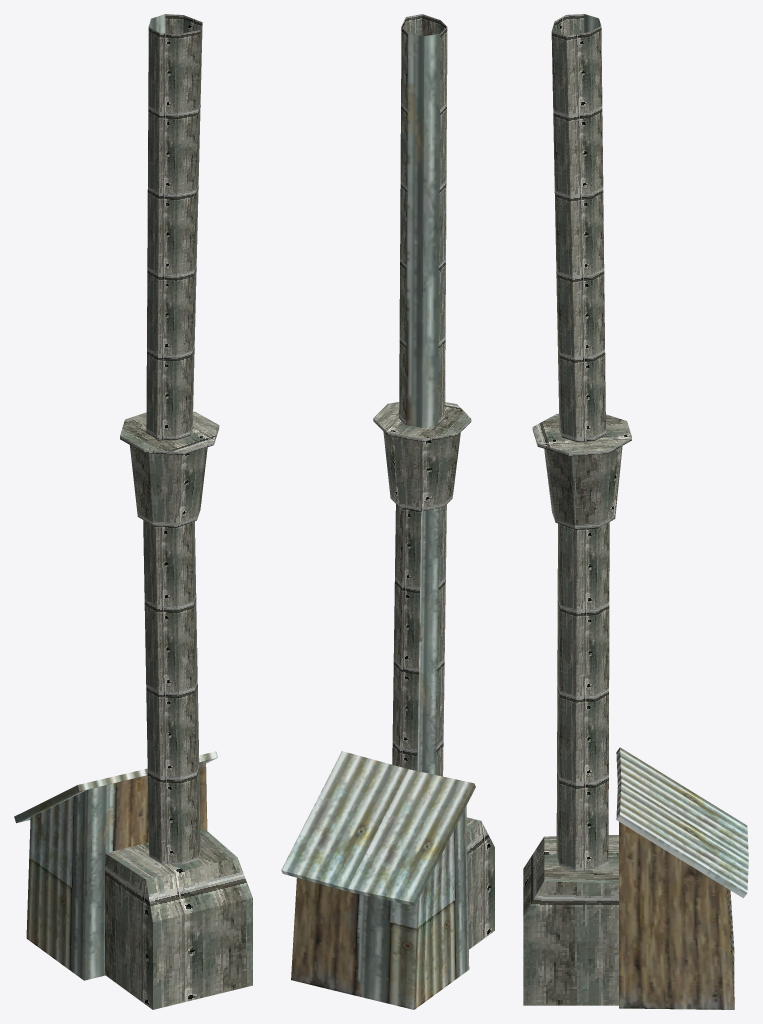
File: C2SMMINECHIM1H.obj
3 renders of one model, left to right at view 1: azimuth 30°, elevation 25°; view 2: azimuth 150°, elevation 25°; view 3: azimuth 270°, elevation 25°, orthographic. The views are drawn at different scales.
Parts seen in each view (by area): view 1: Node 0; view 2: Node 0; view 3: Node 0.
Part boxes in pixels (x1,y1,x2,y2): Node 0: (14,14,252,1009); Node 0: (281,14,494,1009); Node 0: (523,14,748,1009).
Bounding box in the file's own units: 4.5 × 29.66 × 6.34.
Materials: 2 (2 with a texture image).
